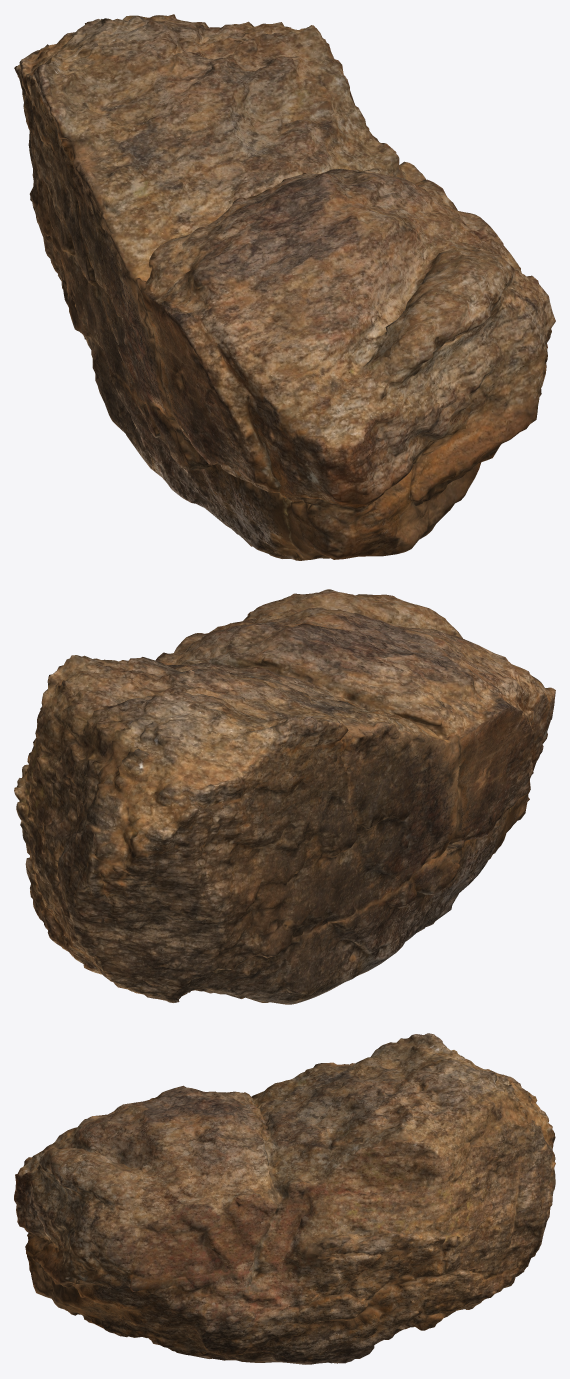
File: namaqualand_boulder_06_ice.glb
3 views of the same model, one above another, from view 1: azimuth 30°, elevation 25°; view 2: azimuth 150°, elevation 25°; view 3: azimuth 270°, elevation 25° (orthographic). The views are drawn at different scales.
Parts seen in each view (by area): view 1: namaqualand_boulder_06; view 2: namaqualand_boulder_06; view 3: namaqualand_boulder_06.
Part boxes in pixels (x1,y1,x2,y2): namaqualand_boulder_06: (14,14,555,560); namaqualand_boulder_06: (14,589,555,1004); namaqualand_boulder_06: (14,1033,555,1364).
Bounding box in the file's own units: 0.6747 × 0.6516 × 1.21.
Materials: 1 (1 with a texture image).
